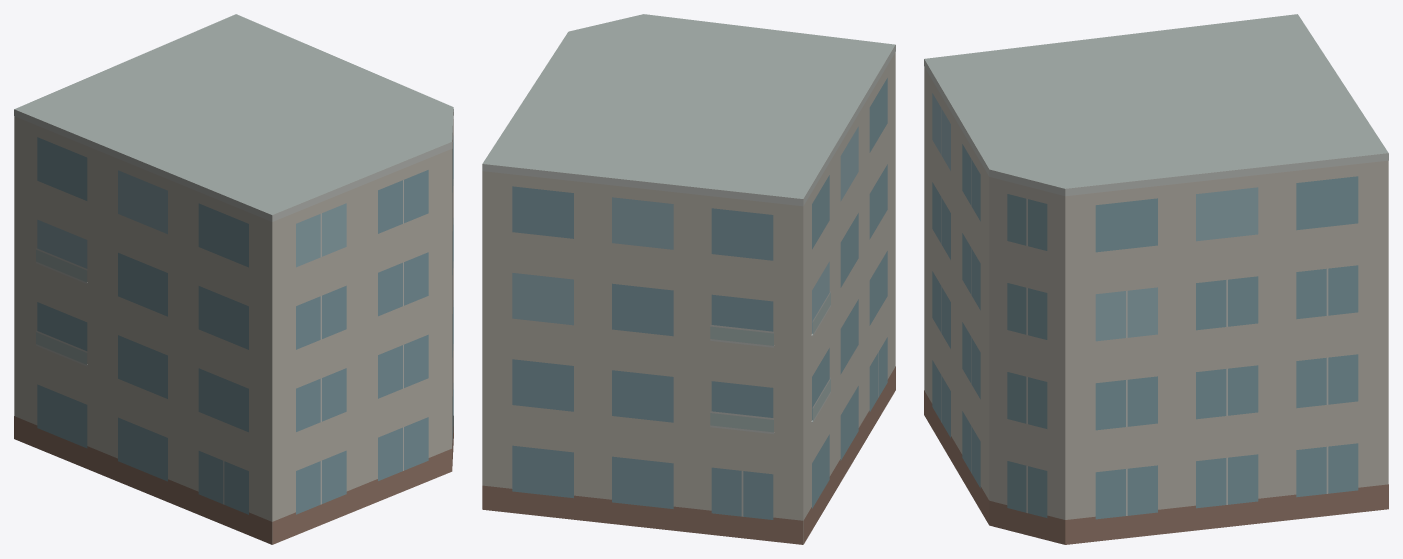
File: survey-upis-33022545.glb
3 renders of one model, left to right at view 1: azimuth 30°, elevation 25°; view 2: azimuth 150°, elevation 25°; view 3: azimuth 270°, elevation 25°, orthographic. The views are drawn at different scales.
Parts seen in each view (by area): view 1: survey-upis-33022545.tmp; view 2: survey-upis-33022545.tmp; view 3: survey-upis-33022545.tmp.
Boxes of the visible parts, box(x1,y1,x2,y2) form: survey-upis-33022545.tmp: box(14, 14, 453, 544); survey-upis-33022545.tmp: box(482, 14, 895, 544); survey-upis-33022545.tmp: box(924, 14, 1388, 544).
Size of the model in its own units: 12.33 by 11.7 by 13.85.
